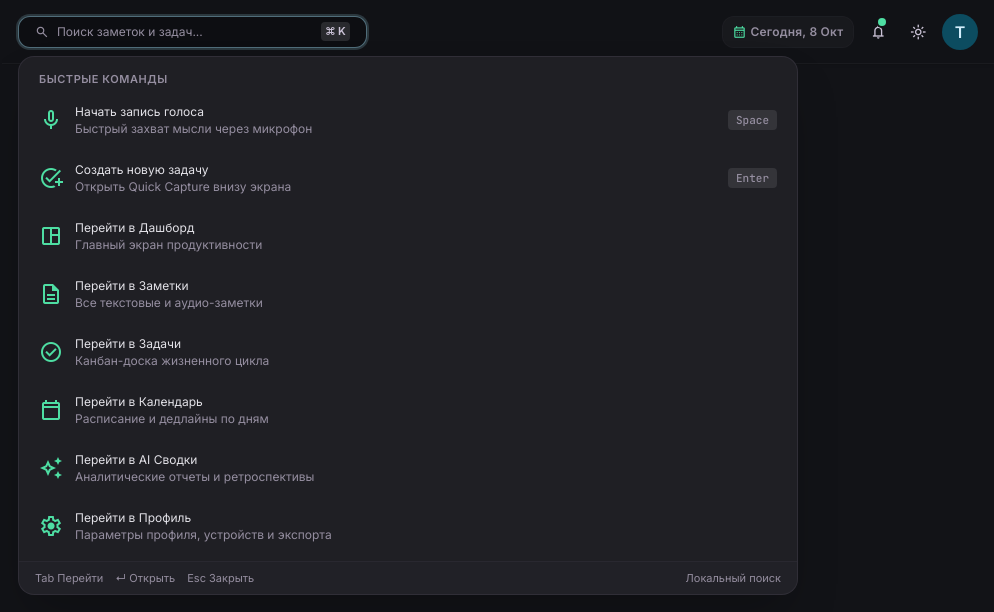
CommandPaletteModal search behavior › opens a clicked result in the drawer and closes the palette
The image size is (994, 612).
Type "метрик" into the dropdown at (185, 32), box [57,22,313,40]
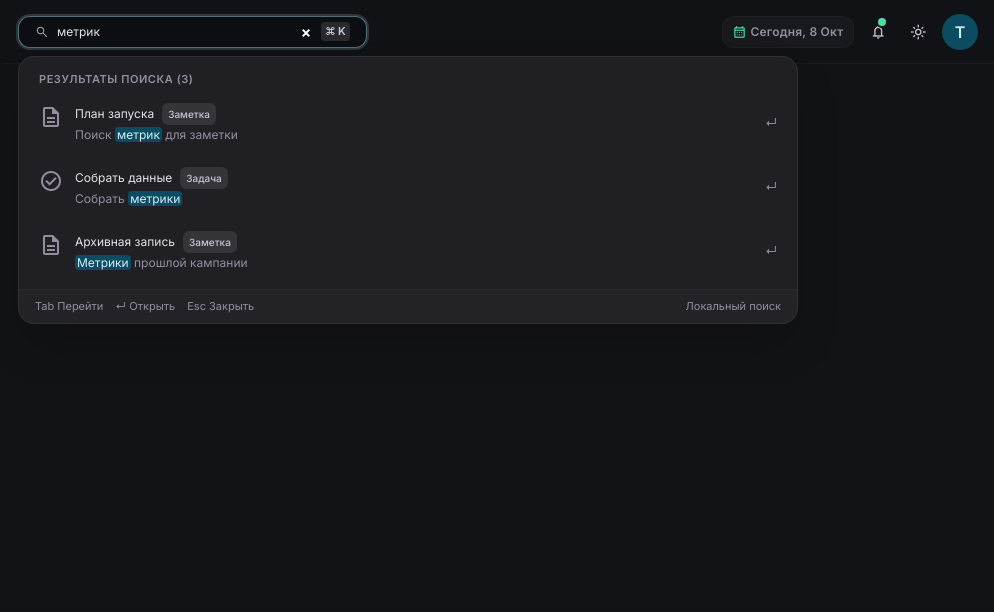
Click the option with aria-label "Открыть задачу: Собрать данные" at (124, 178), box [27,157,789,217]
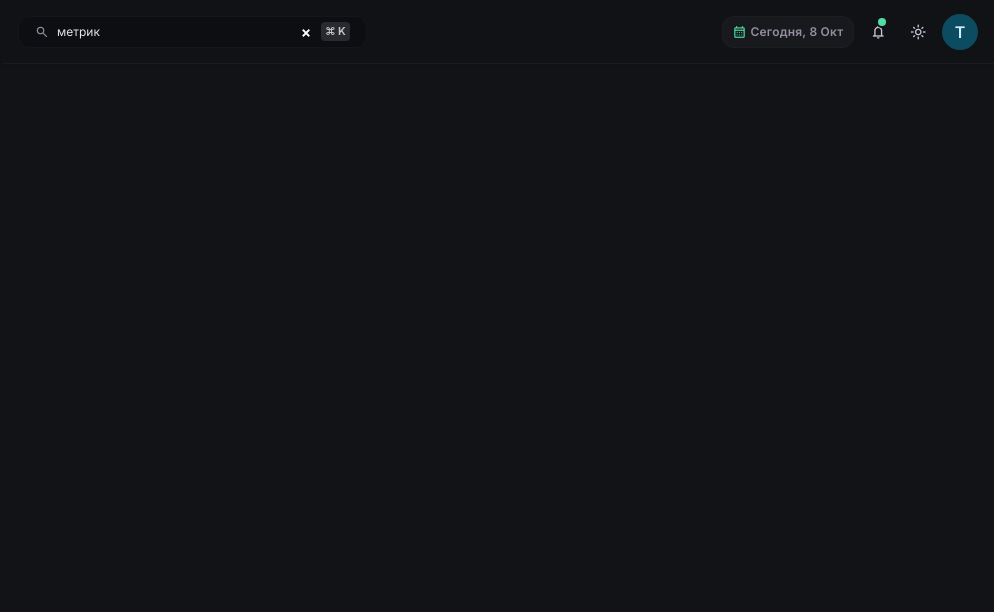
Result: the element with test id "command-palette-widget" is gone
